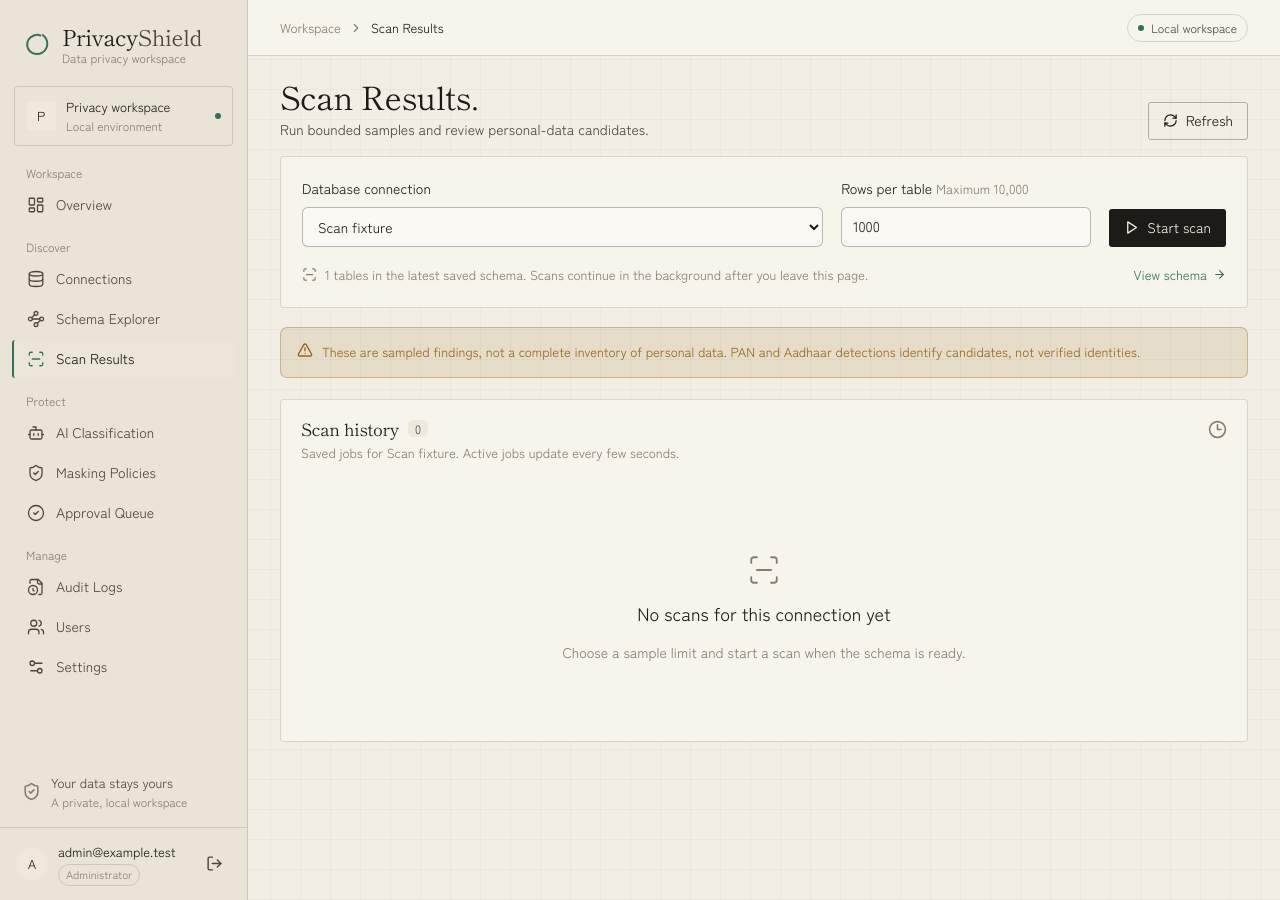
Test: sampled scan workflow › blocks excessive samples before making a scan request
expect the button "Start scan" is enabled: met, box top-left (1109, 209), bottom-right (1226, 247)
Replace the text in the number field labelled "Rows per table Maximum 10,000" with "10001": (966, 227) top-left (841, 207), bottom-right (1091, 247)
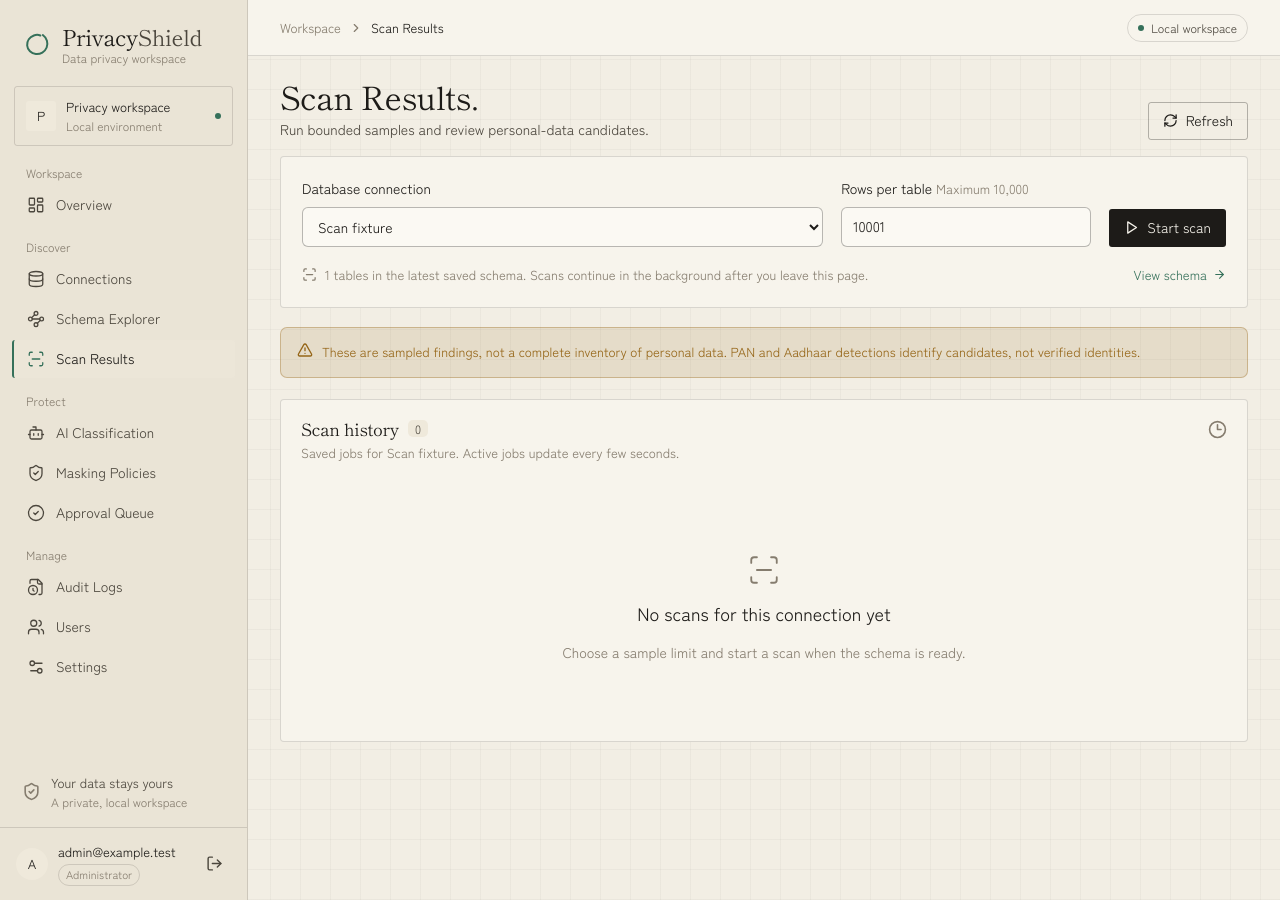
Submit the form named "Launch a scan", box top-left (280, 156), bottom-right (1248, 308)
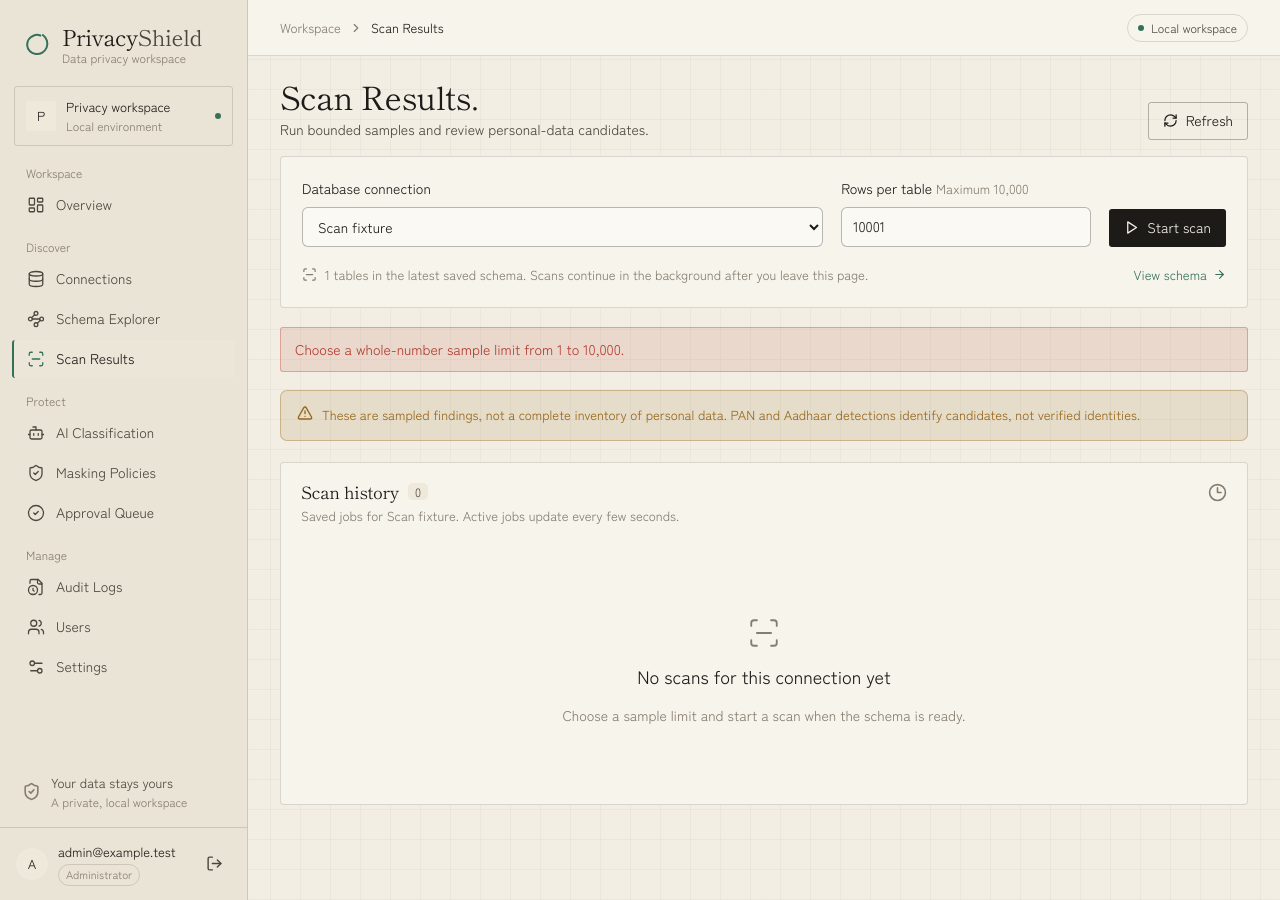
expect the message shows "1 to 10,000": met, box top-left (295, 339), bottom-right (624, 359)
